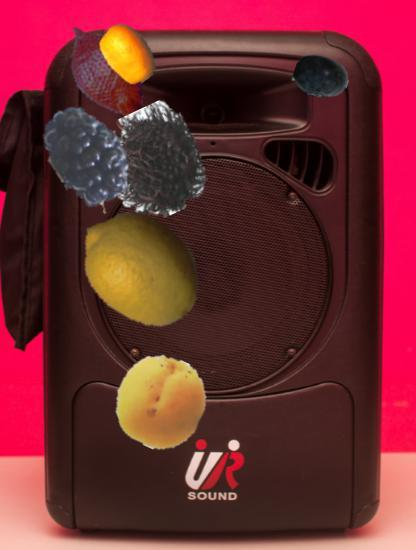Blueberry: (294, 50, 349, 105)
Kumquats: (96, 22, 160, 86)
Lemon: (75, 201, 207, 333)
Mulberry: (37, 92, 155, 210)
Peach: (114, 355, 208, 449)
Rambutan: (98, 109, 207, 218)
Salak: (50, 16, 164, 130)
